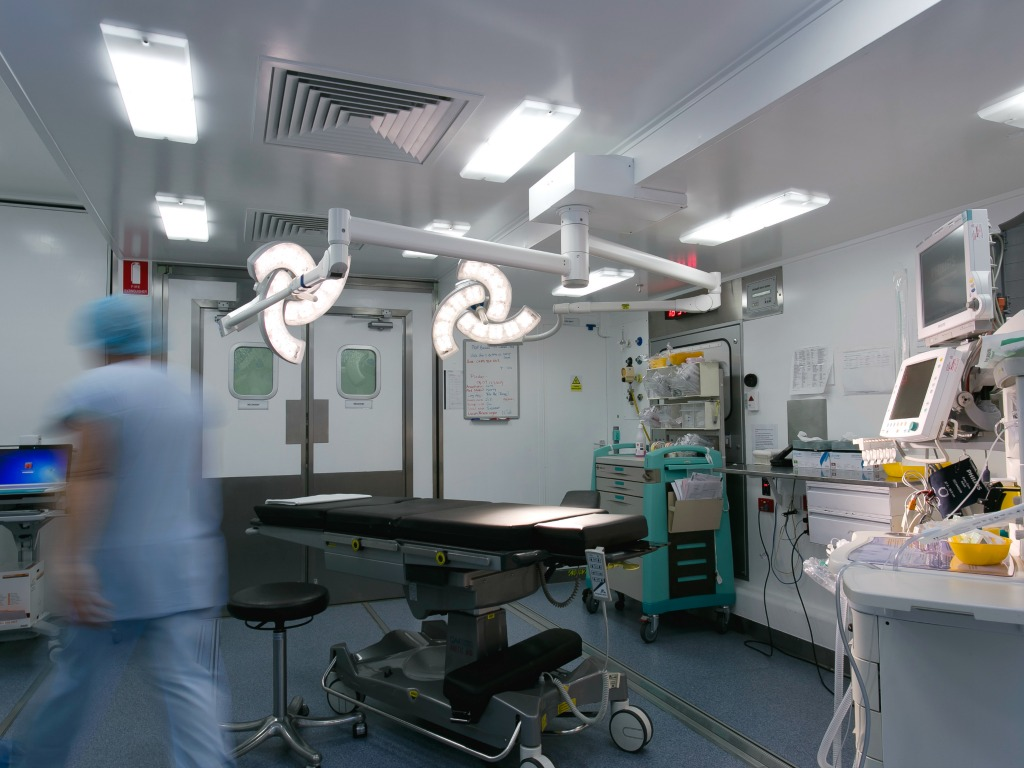bedside_monitor: (904, 233, 986, 335), (884, 345, 966, 446)
breathing_tube: (812, 566, 861, 767)
chair: (218, 581, 370, 767)
computer: (1, 443, 70, 490)
countertop: (739, 460, 919, 484)
dispenser: (787, 430, 874, 471)
medical_drawer: (583, 441, 734, 644)
operating_bed: (249, 494, 667, 767)
staff: (3, 293, 229, 768)
surgical_instrument: (631, 419, 711, 454)
surgical_light: (221, 244, 351, 364), (433, 260, 536, 358)
